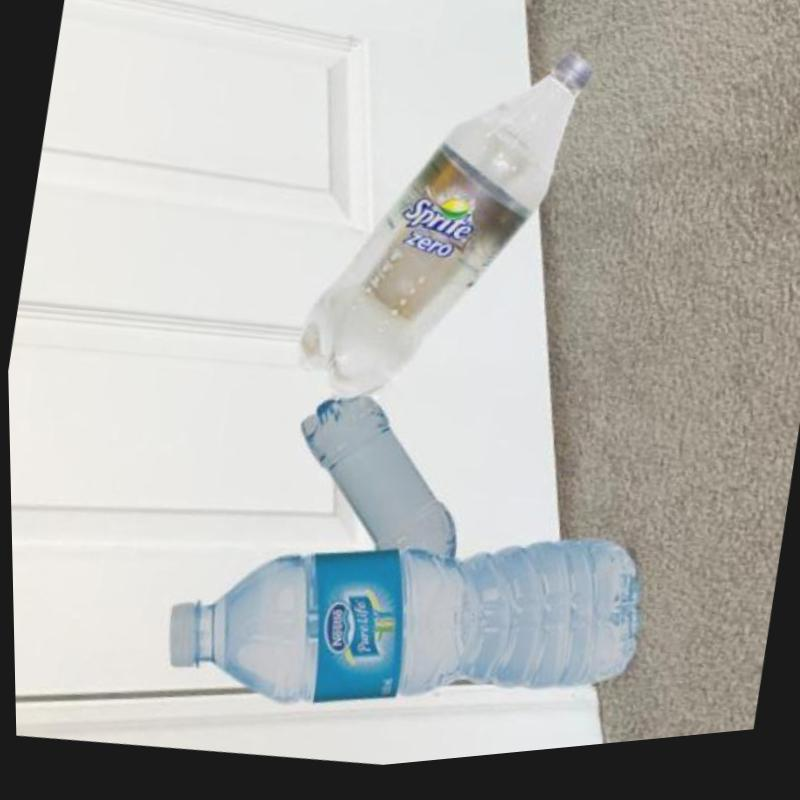botella: (149, 471, 654, 782), (284, 20, 603, 441), (276, 376, 478, 580)
